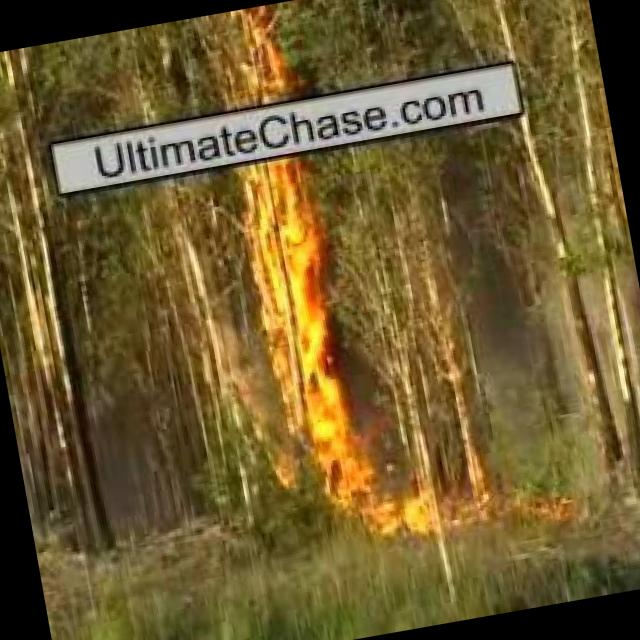Fire: (234, 160, 360, 448), (278, 436, 458, 563), (218, 3, 289, 108)
